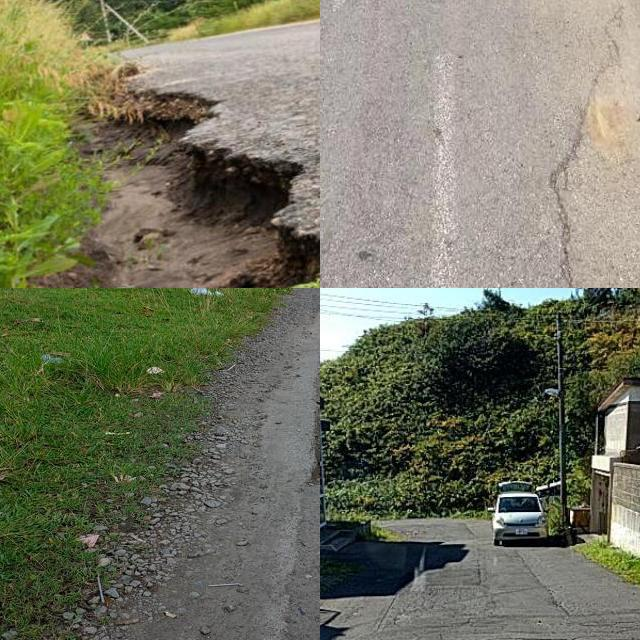Memanjang: (532, 0, 640, 288)
Pinggir: (0, 292, 320, 640), (108, 67, 320, 288)
